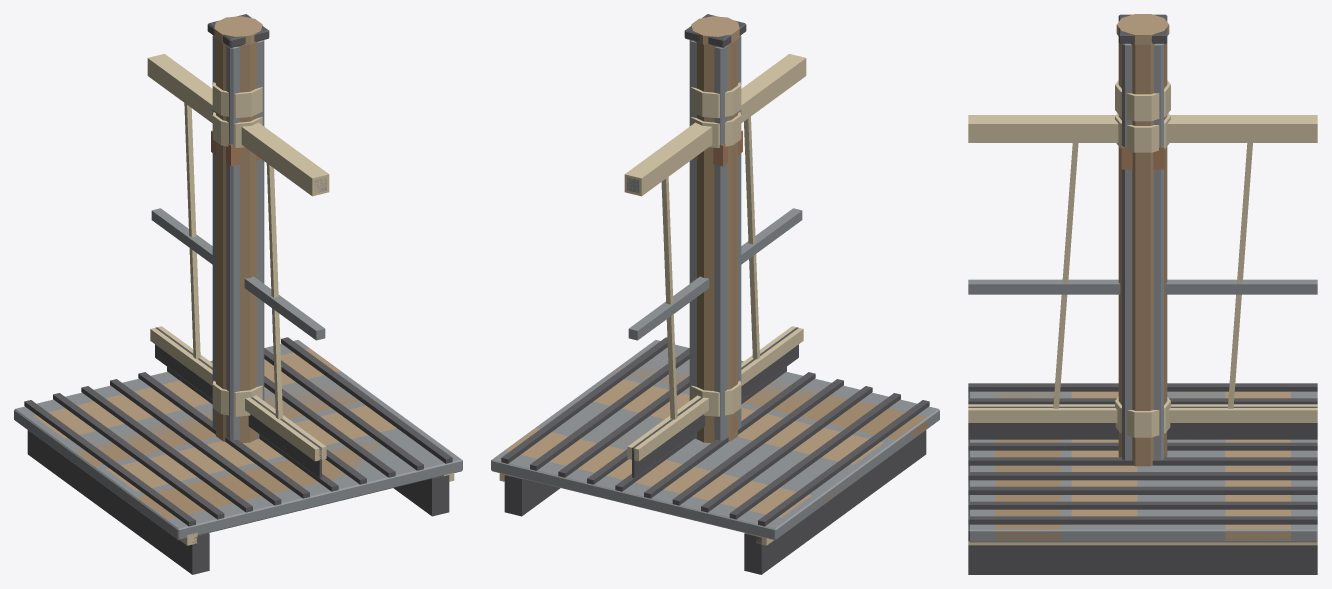
Rendered from pearl_span.glb.
3 renders of one model, left to right at view 1: azimuth 30°, elevation 25°; view 2: azimuth 150°, elevation 25°; view 3: azimuth 270°, elevation 25°, orthographic. The views are drawn at different scales.
Parts seen in each view (by area): view 1: ps_deck_mesh, ps_planks_mesh, ps_rendpost_mesh, ps_rope_mesh, ps_endpost_mesh, ps_rail_mesh; view 2: ps_deck_mesh, ps_planks_mesh, ps_rendpost_mesh, ps_rope_mesh, ps_endpost_mesh, ps_rail_mesh; view 3: ps_deck_mesh, ps_rope_mesh, ps_rendpost_mesh, ps_planks_mesh, ps_rail_mesh, ps_endpost_mesh.
Part boxes in pixels (box(x1,y1,x2,y2)): ps_deck_mesh: box(14, 337, 462, 574); ps_planks_mesh: box(34, 348, 454, 545); ps_rendpost_mesh: box(212, 16, 262, 442); ps_rope_mesh: box(147, 54, 329, 461); ps_endpost_mesh: box(207, 14, 269, 440); ps_rail_mesh: box(151, 177, 326, 477); ps_deck_mesh: box(491, 337, 939, 574); ps_planks_mesh: box(499, 359, 927, 545); ps_rendpost_mesh: box(691, 16, 741, 442); ps_rope_mesh: box(624, 54, 806, 461); ps_endpost_mesh: box(684, 14, 746, 440); ps_rail_mesh: box(627, 177, 802, 477); ps_deck_mesh: box(968, 383, 1317, 574); ps_rope_mesh: box(968, 115, 1317, 422); ps_rendpost_mesh: box(1115, 14, 1170, 466); ps_planks_mesh: box(968, 391, 1317, 545); ps_rail_mesh: box(968, 279, 1317, 439); ps_endpost_mesh: box(1118, 14, 1167, 460).
Size of the model in its own units: 1 by 1.53 by 1.
